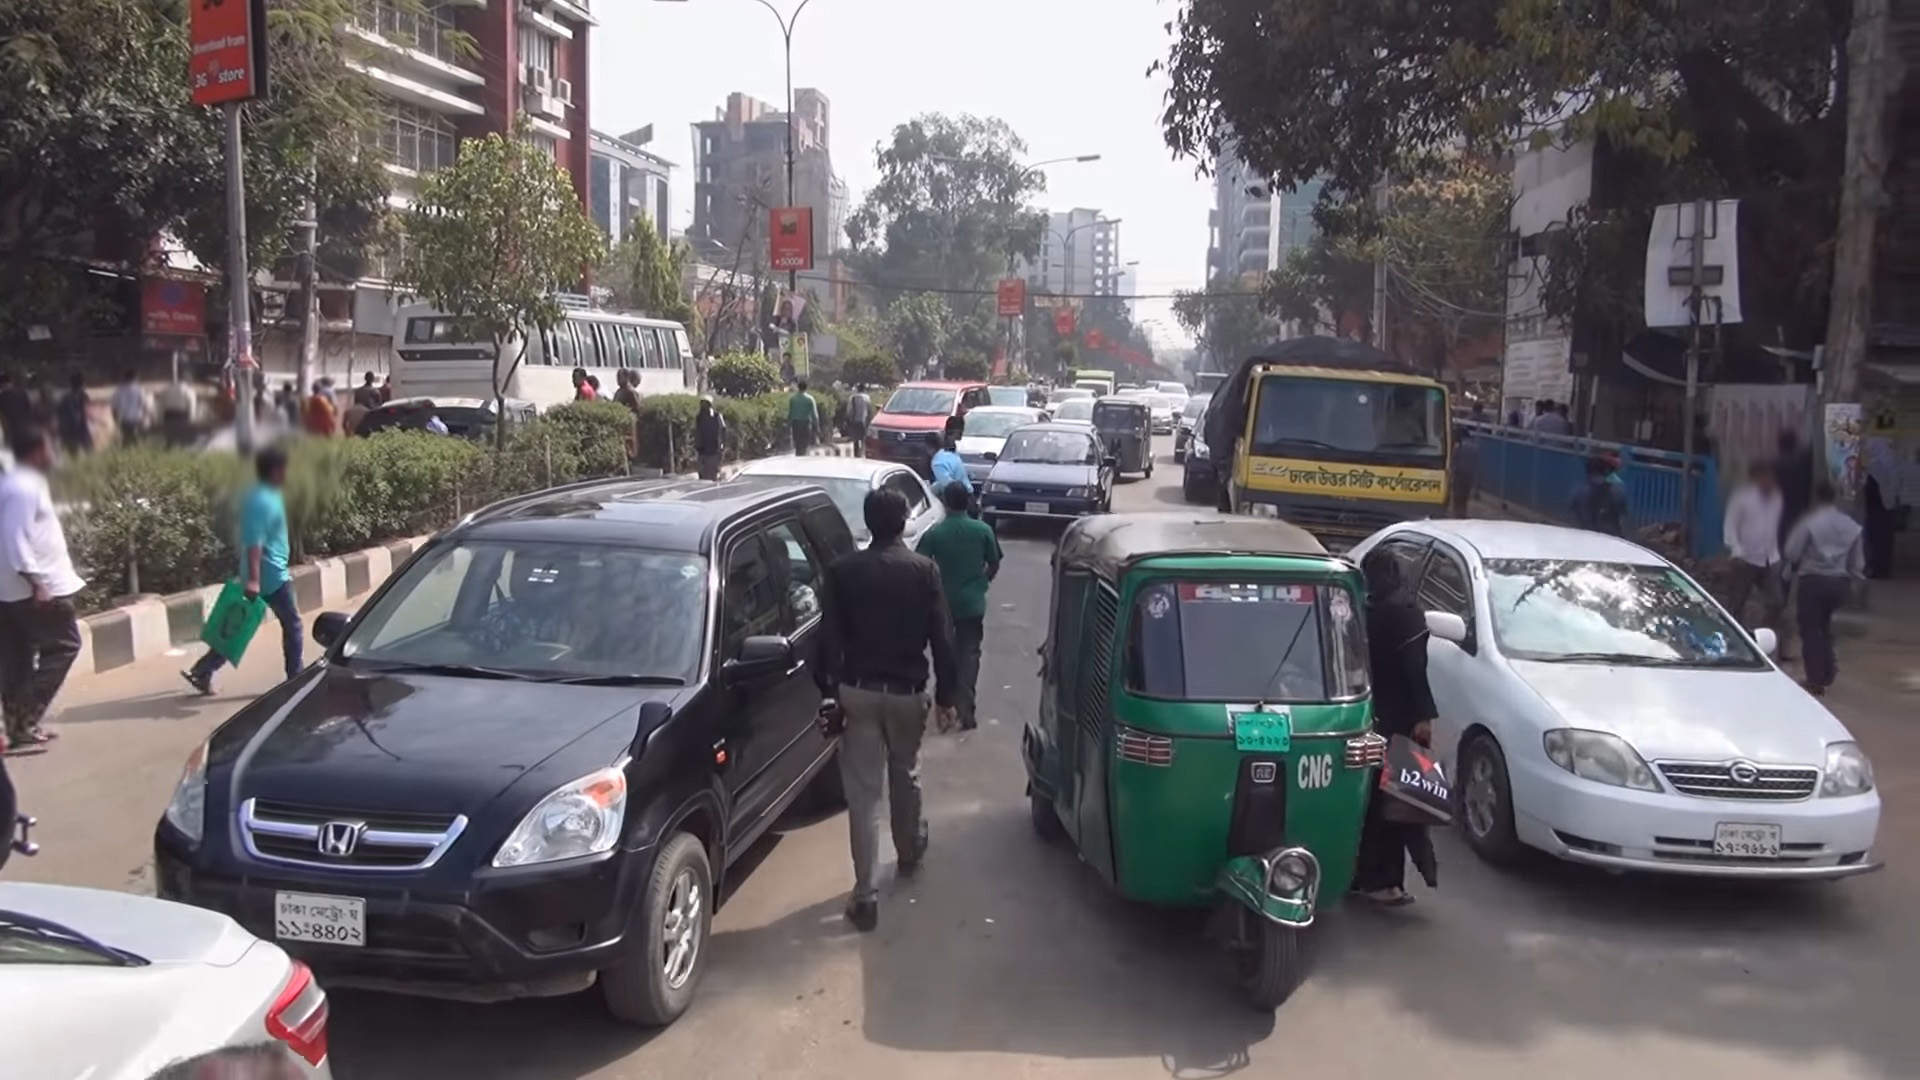bus: (386, 297, 703, 411)
car: (153, 480, 849, 1022), (1340, 518, 1895, 876), (1, 882, 332, 1075), (731, 454, 947, 545), (972, 426, 1117, 520), (865, 380, 992, 464), (955, 404, 1051, 484), (1054, 393, 1095, 425), (1151, 396, 1180, 433)
cng: (1022, 509, 1389, 1007), (1092, 397, 1156, 483)
truck: (1222, 355, 1465, 541)
